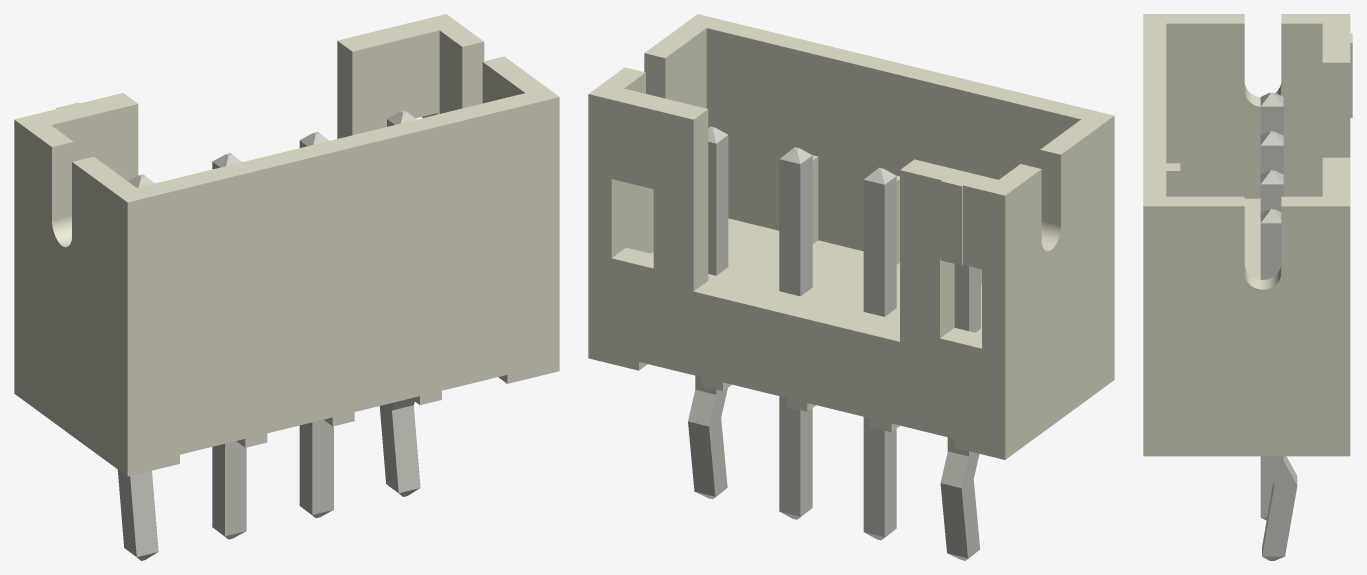
The model's file is jst_ph_b4b_ph_k_1x04_p2_00mm_vertical.glb.
3 renders of one model, left to right at view 1: azimuth 30°, elevation 25°; view 2: azimuth 150°, elevation 25°; view 3: azimuth 270°, elevation 25°, orthographic. The views are drawn at different scales.
Visible parts, largest first — view 1: conn_jst_ph_4p, pin_2, pin_3, pin_4, pin_1; view 2: conn_jst_ph_4p, pin_2, pin_3, pin_1, pin_4; view 3: conn_jst_ph_4p, pin_4, pin_3.
Part boxes in pixels (x1,y1,x2,y2): conn_jst_ph_4p: (14, 14, 559, 476); pin_2: (212, 441, 246, 539); pin_3: (299, 419, 333, 518); pin_4: (379, 398, 420, 496); pin_1: (117, 469, 158, 560); conn_jst_ph_4p: (588, 14, 1114, 459); pin_2: (863, 417, 896, 540); pin_3: (779, 396, 812, 519); pin_1: (940, 437, 980, 560); pin_4: (688, 375, 727, 499); conn_jst_ph_4p: (1143, 14, 1352, 456); pin_4: (1260, 456, 1297, 560); pin_3: (1260, 461, 1272, 520).
Bounding box in the file's own units: 0.0099 × 0.0094 × 0.00455.
